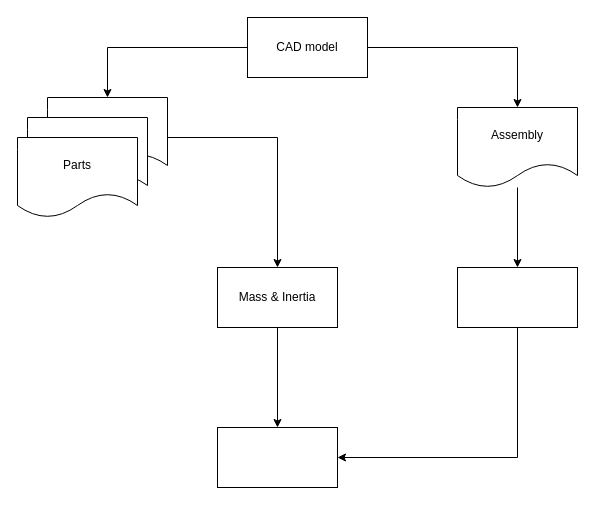
Some shapes in this 595 by 505 pixel diagram are drawn without their labels. Here are the shapes that lost their labels. From the top down, the centre of each, then its label:
[517,297]: Kinemaitic constrains
[277,457]: Generated Modelica Code
